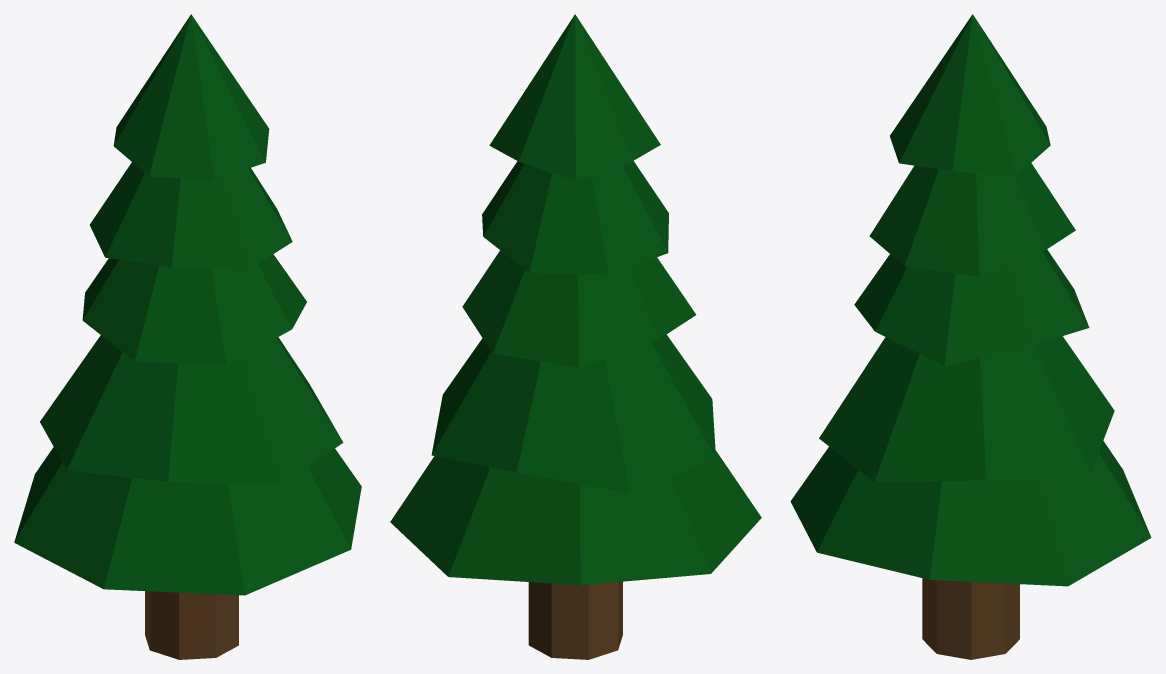
The model's file is treec1.glb.
3 views of the same model, side by side, from view 1: azimuth 30°, elevation 25°; view 2: azimuth 150°, elevation 25°; view 3: azimuth 270°, elevation 25° (orthographic).
Parts seen in each view (by area): view 1: Cone.016, Cylinder.023; view 2: Cone.016, Cylinder.023; view 3: Cone.016, Cylinder.023.
Part boxes in pixels (x1,y1,x2,y2): Cone.016: (14,14,361,595); Cylinder.023: (145,591,238,659); Cone.016: (390,14,761,585); Cylinder.023: (528,581,622,659); Cone.016: (790,14,1151,586); Cylinder.023: (922,578,1019,659).
Bounding box in the file's own units: 4.99 × 9.75 × 5.1.
